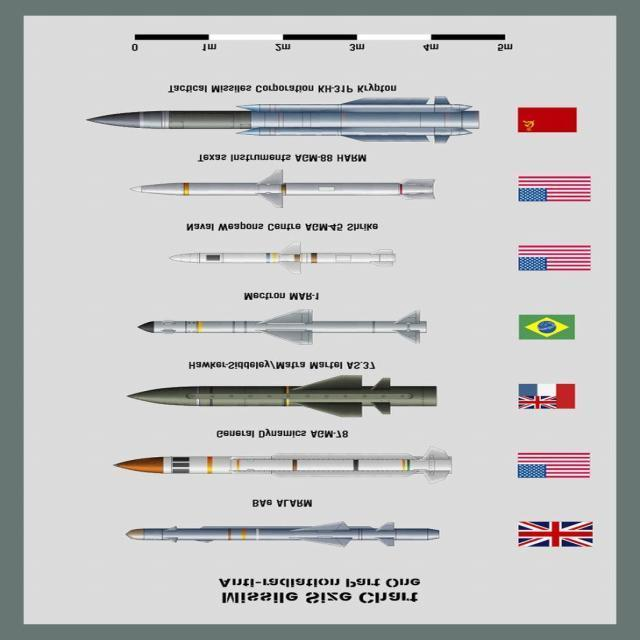Missile: (86, 91, 506, 151), (106, 447, 468, 488)
